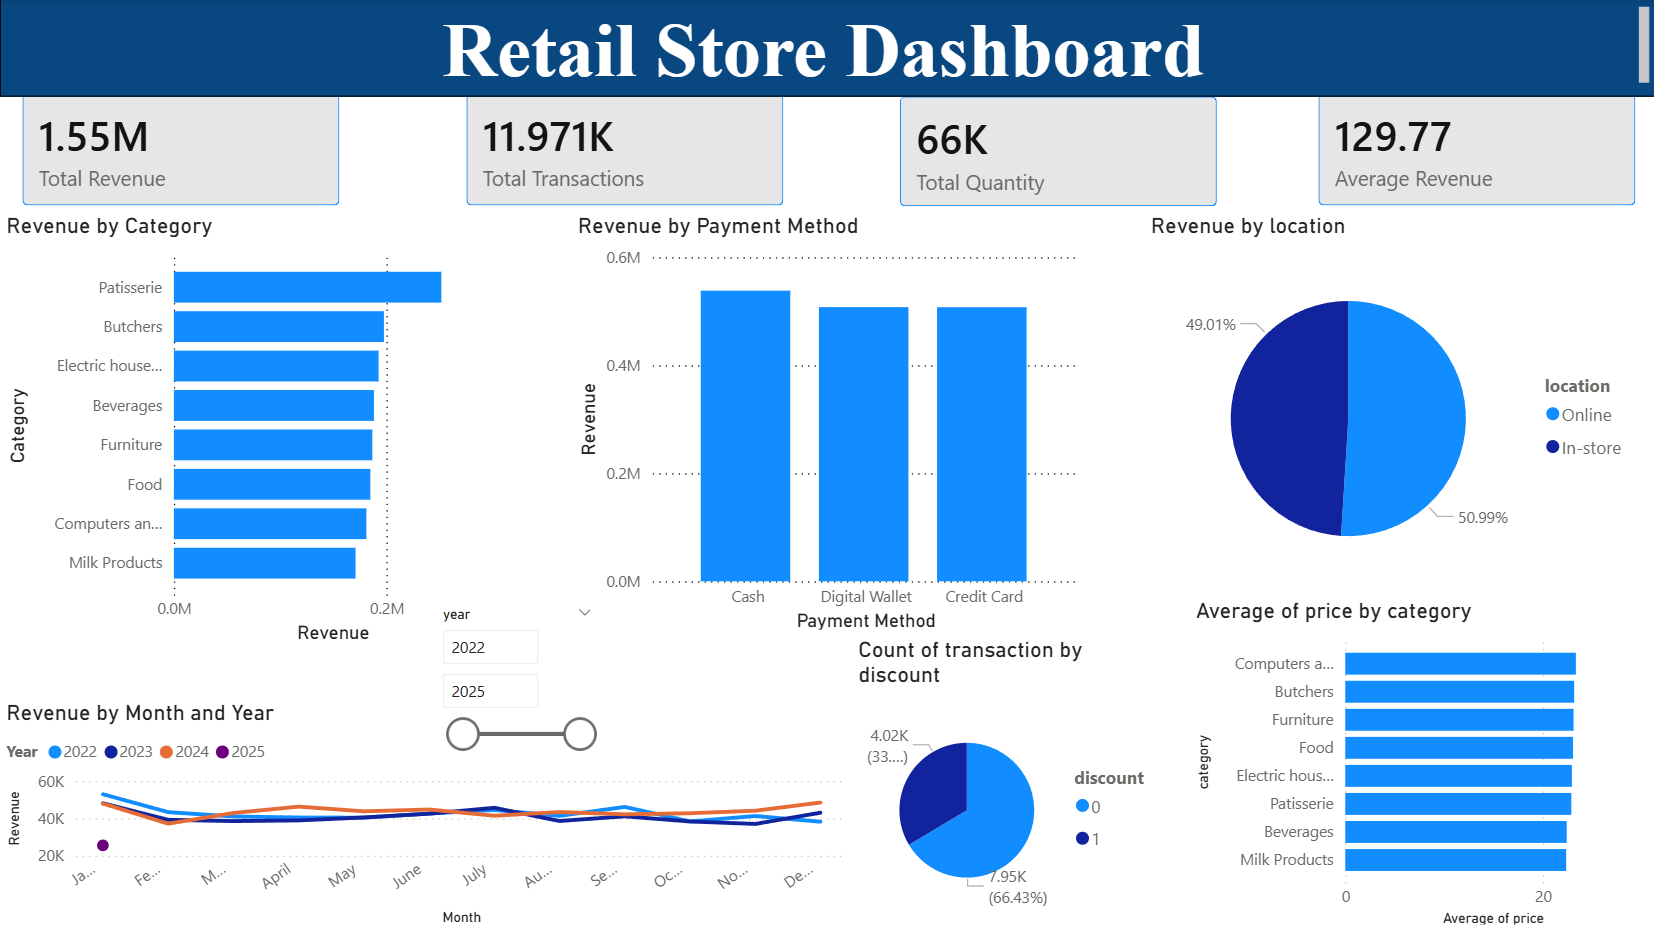

The page's visual inventory and layout, read from the dashboard file:
{"tool":"powerbi","page":{"name":"Page 1","canvas":[1280,720],"ordinal":0},"visuals":[{"type":"cardVisual","fields":{"Data":["Sum(fact_transactions.total_spent)"]},"box":[0,53.3,279.3,124],"z":0},{"type":"cardVisual","fields":{"Data":["CountNonNull(fact_transactions.transaction_id)"]},"box":[343,53.3,279.3,124],"z":1000},{"type":"cardVisual","fields":{"Data":["Sum(fact_transactions.quantity)"]},"box":[677.9,57.9,279.3,119.3],"z":2000},{"type":"cardVisual","fields":{"Data":["Avg(fact_transactions.total_spent)"]},"box":[1001.1,53.3,279.3,124],"z":3000},{"type":"clusteredBarChart","fields":{"Category":["dim_product.category"],"Y":["Sum(fact_transactions.total_spent)"]},"box":[0,164.7,399.3,337.6],"z":4000},{"type":"lineChart","fields":{"Category":["dim_date.month_name"],"Y":["Sum(fact_transactions.total_spent)"],"Series":["dim_date.year"]},"box":[0,540.7,658.7,178.4],"z":5000},{"type":"pieChart","fields":{"Category":["dim_location.location"],"Y":["Sum(fact_transactions.total_spent)"]},"box":[883.7,164.7,384.2,297.8],"z":6000},{"type":"clusteredColumnChart","fields":{"Category":["dim_payment.payment_method"],"Y":["Sum(fact_transactions.total_spent)"]},"box":[441.9,164.7,396.6,328],"z":7000},{"type":"slicer","fields":{"Values":["dim_date.year"]},"box":[329.3,463.8,140,127.6],"z":8000},{"type":"textbox","box":[0,0,1280.4,75.3],"z":9000},{"type":"clusteredBarChart","fields":{"Category":["dim_product.category"],"Y":["Avg(dim_product.price)"]},"box":[919.4,462.4,360.9,258],"z":10000},{"type":"pieChart","fields":{"Category":["fact_transactions.discount_applied"],"Y":["CountNonNull(fact_transactions.transaction_id)"]},"box":[658.7,492.6,249.7,226.4],"z":10001}]}

Visuals, with their boxes in screenshot pixels (x1, y1, x2, y2), scaled from the page's 1280x720 canvas onto the 1654x931 screenshot:
cardVisual - Sum(fact_transactions.total_spent): locate(0, 69, 361, 229)
cardVisual - CountNonNull(fact_transactions.transaction_id): locate(443, 69, 804, 229)
cardVisual - Sum(fact_transactions.quantity): locate(876, 75, 1237, 229)
cardVisual - Avg(fact_transactions.total_spent): locate(1294, 69, 1653, 229)
clusteredBarChart - dim_product.category x Sum(fact_transactions.total_spent): locate(0, 213, 516, 650)
lineChart - dim_date.month_name x Sum(fact_transactions.total_spent): locate(0, 699, 851, 930)
pieChart - dim_location.location x Sum(fact_transactions.total_spent): locate(1142, 213, 1638, 598)
clusteredColumnChart - dim_payment.payment_method x Sum(fact_transactions.total_spent): locate(571, 213, 1083, 637)
slicer - dim_date.year: locate(426, 600, 606, 765)
textbox: locate(0, 0, 1653, 97)
clusteredBarChart - dim_product.category x Avg(dim_product.price): locate(1188, 598, 1653, 930)
pieChart - fact_transactions.discount_applied x CountNonNull(fact_transactions.transaction_id): locate(851, 637, 1174, 930)
